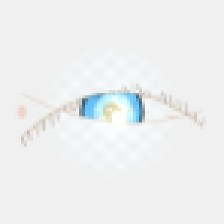corneal_ulcer: (86, 95, 143, 141)
